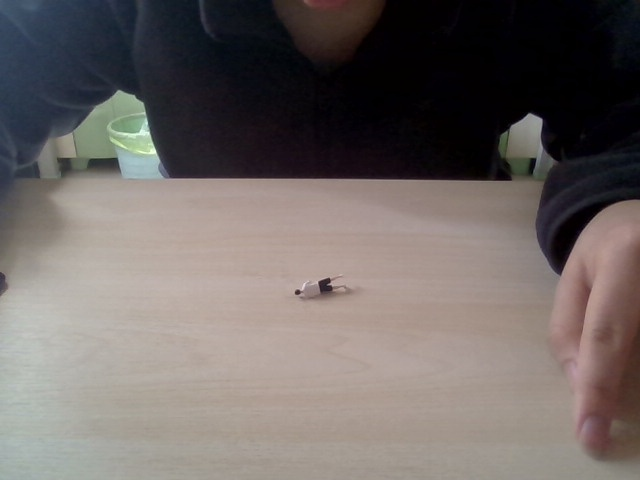fall: (290, 270, 353, 302)
